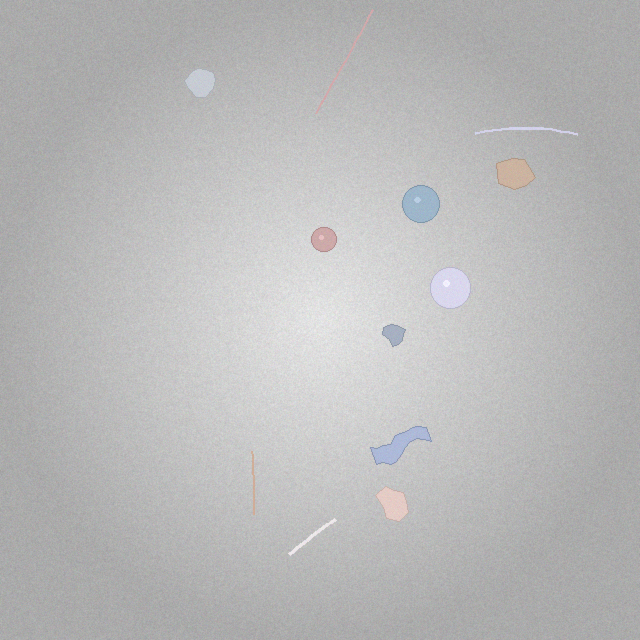fiber: (313, 8, 374, 115), (287, 516, 339, 558), (472, 125, 581, 138), (249, 448, 256, 517)
film: (371, 426, 431, 465)
fragment: (496, 158, 536, 190), (376, 486, 409, 522), (185, 69, 216, 97), (383, 324, 405, 346)
pellet: (430, 268, 471, 308), (403, 185, 439, 222), (312, 227, 336, 252)
